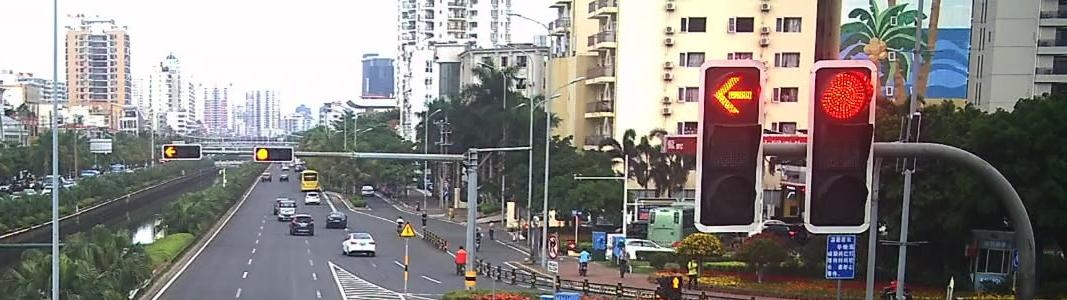red: (816, 68, 875, 124), (256, 146, 268, 161)
redleft: (710, 72, 762, 117), (164, 144, 178, 159)
redpeople: (670, 276, 681, 291)
